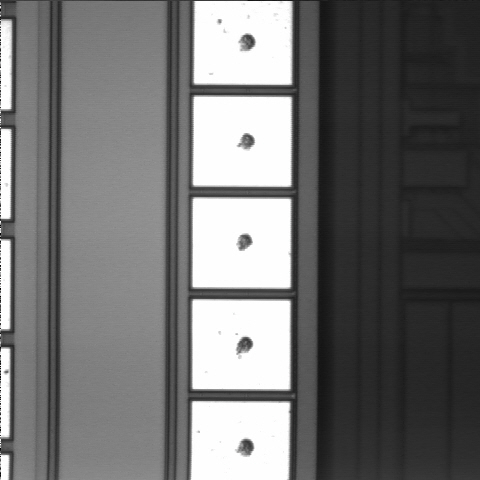pad: (193, 97, 291, 187), (193, 198, 291, 288), (192, 299, 290, 389)
